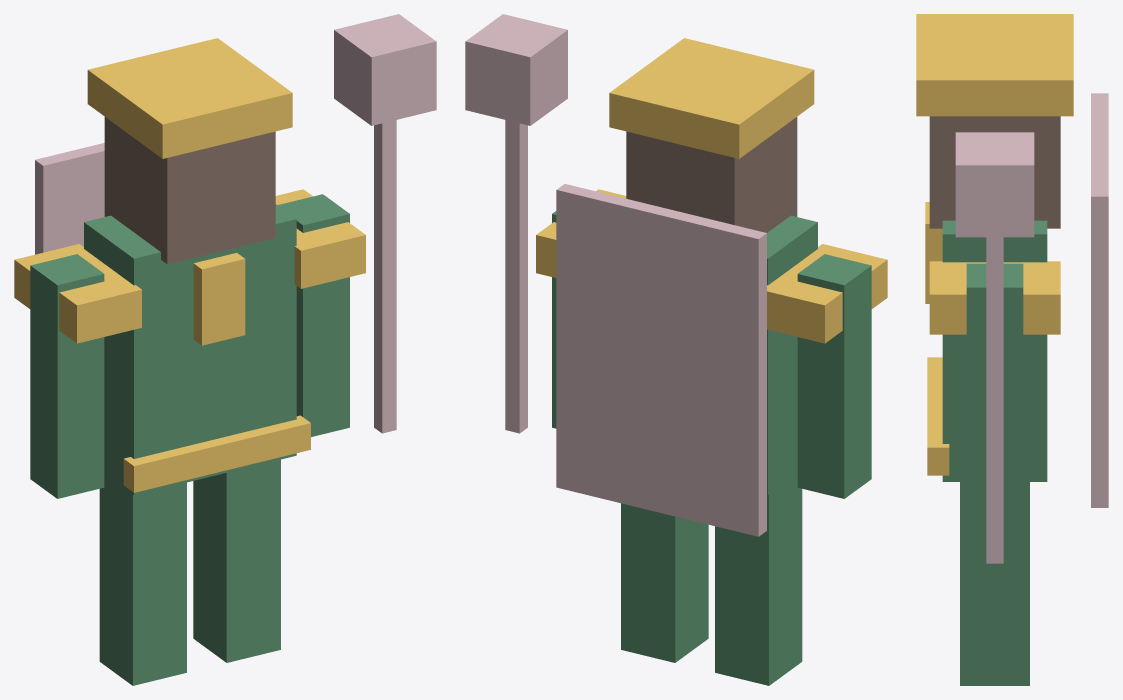
The model's file is 08_orin_wayfare_guide_under_geode.glb.
3 renders of one model, left to right at view 1: azimuth 30°, elevation 25°; view 2: azimuth 150°, elevation 25°; view 3: azimuth 270°, elevation 25°, orthographic. The views are drawn at different scales.
Visible parts, largest first — view 1: Orin Wayfare, Guide under Geode; view 2: Orin Wayfare, Guide under Geode; view 3: Orin Wayfare, Guide under Geode.
Boxes of the visible parts, box(x1,y1,x2,y2) form: Orin Wayfare, Guide under Geode: box(14, 14, 436, 685); Orin Wayfare, Guide under Geode: box(465, 14, 887, 685); Orin Wayfare, Guide under Geode: box(916, 14, 1108, 685).
Size of the model in its own units: 1.09 by 1.6 by 0.4639.
